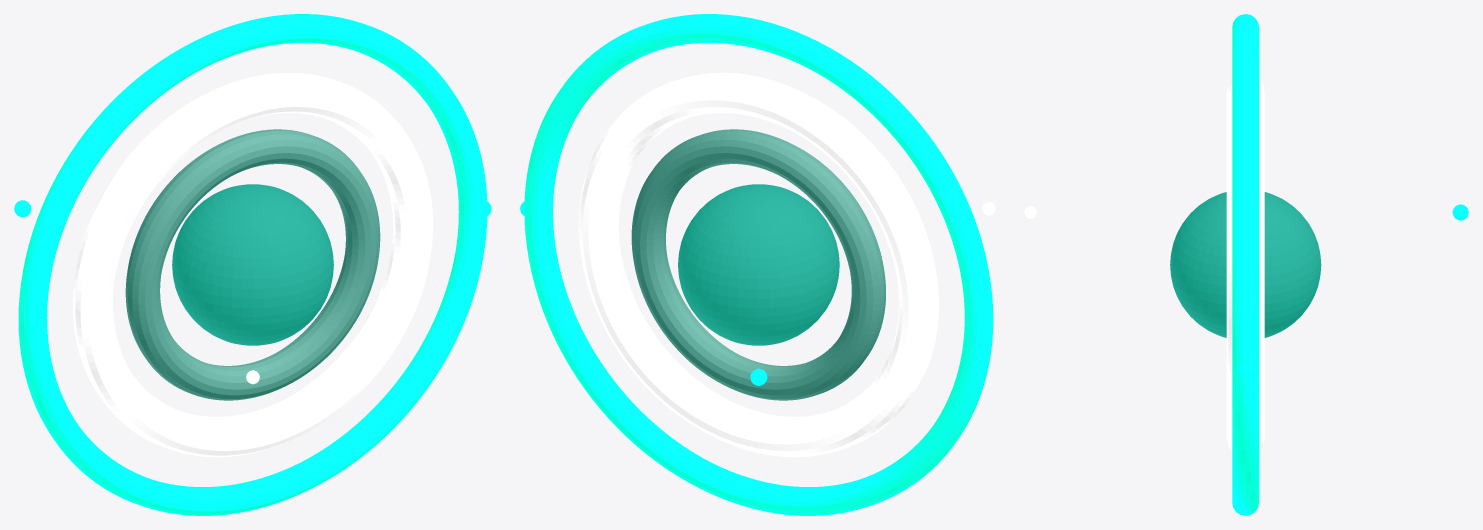
File: syntra-emblem-3d.glb
3 views of the same model, side by side, from view 1: azimuth 30°, elevation 25°; view 2: azimuth 150°, elevation 25°; view 3: azimuth 270°, elevation 25° (orthographic). The views are drawn at different scales.
Parts seen in each view (by area): view 1: RingWhite, RingGreen, RingDark, VoidCore; view 2: RingWhite, RingGreen, RingDark, VoidCore; view 3: RingGreen, VoidCore, RingWhite.
Part boxes in pixels (x1,y1,x2,y2): RingWhite: (73,72,432,457); RingGreen: (18,14,487,515); RingDark: (125,129,380,400); VoidCore: (172,184,333,345); RingWhite: (578,72,938,457); RingGreen: (524,14,993,515); RingDark: (631,129,885,400); VoidCore: (678,184,839,345); RingGreen: (1232,14,1259,515); VoidCore: (1170,192,1321,337); RingWhite: (1226,79,1264,450).
Size of the model in its own units: 4.7 by 4.65 by 4.12.
